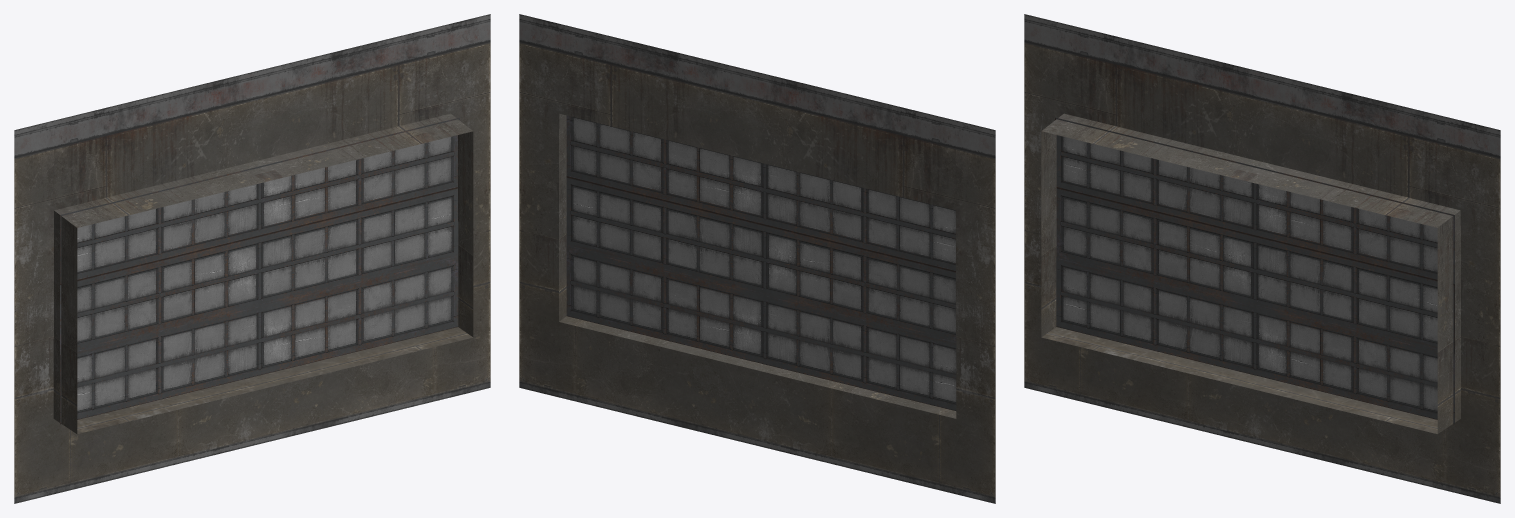
File: ARC0910289.fbx
The picture shows the model from 3 angles, left to right: view 1: azimuth 30°, elevation 25°; view 2: azimuth 150°, elevation 25°; view 3: azimuth 330°, elevation 25°; orthographic projection.
Visible parts, largest first — view 1: smARC0910289; view 2: smARC0910289; view 3: smARC0910289.
Part boxes in pixels (box(x1,y1,x2,y2)): smARC0910289: box(14, 14, 490, 503); smARC0910289: box(519, 14, 995, 503); smARC0910289: box(1024, 14, 1500, 503).
Size of the model in its own units: 400 by 300 by 33.44.
1 material, 1 textured.
